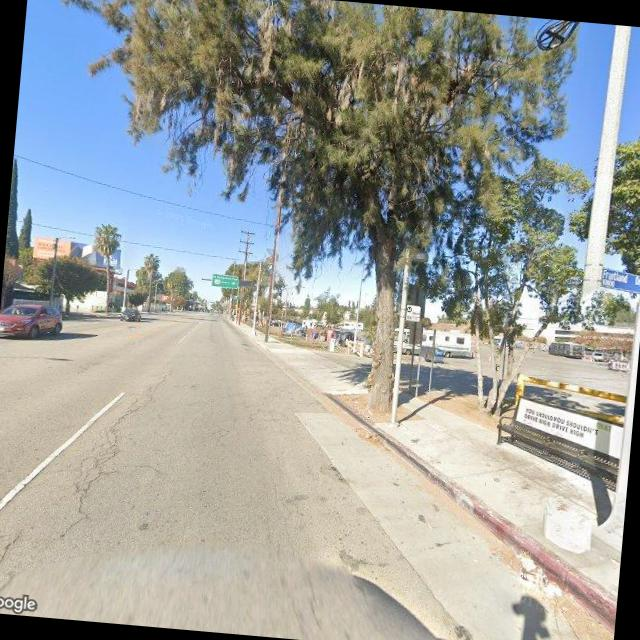pothole: (51, 357, 166, 546)
